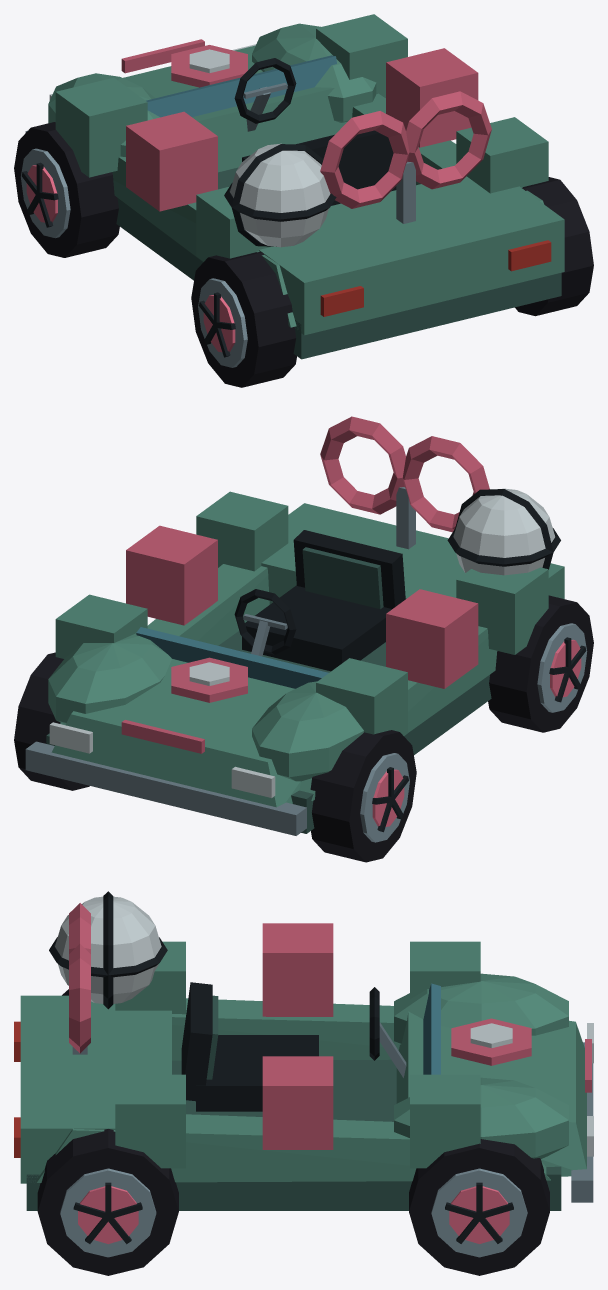
The model's file is kart.glb.
The picture shows the model from 3 angles, top to bottom: view 1: azimuth 30°, elevation 25°; view 2: azimuth 150°, elevation 25°; view 3: azimuth 270°, elevation 25°; orthographic projection. The views are drawn at different scales.
Visible parts, largest first — view 1: identity-toy-car-toy-rounded-body-and-wind-up-key, identity-toy-car-motif-blocks, wheel-rear-left, wheel-front-left, identity-toy-car-motif-ball, identity-toy-car-driver-cockpit, wheel-rear-right, identity-toy-car-motif-badge; view 2: identity-toy-car-toy-rounded-body-and-wind-up-key, identity-toy-car-motif-blocks, identity-toy-car-driver-cockpit, wheel-front-left, wheel-rear-left, identity-toy-car-motif-ball, wheel-front-right, identity-toy-car-motif-badge; view 3: identity-toy-car-toy-rounded-body-and-wind-up-key, identity-toy-car-motif-blocks, wheel-rear-right, wheel-front-right, identity-toy-car-driver-cockpit, identity-toy-car-motif-ball, identity-toy-car-motif-badge.
Part boxes in pixels (left/top/right/bottom): identity-toy-car-toy-rounded-body-and-wind-up-key: left=25, top=23, right=564, bottom=359; identity-toy-car-motif-blocks: left=55, top=14, right=548, bottom=261; wheel-rear-left: left=191, top=252, right=296, bottom=387; wheel-front-left: left=14, top=122, right=119, bottom=257; identity-toy-car-motif-ball: left=224, top=143, right=336, bottom=247; identity-toy-car-driver-cockpit: left=234, top=58, right=396, bottom=205; wheel-rear-right: left=515, top=177, right=593, bottom=316; identity-toy-car-motif-badge: left=171, top=45, right=247, bottom=87; identity-toy-car-toy-rounded-body-and-wind-up-key: left=25, top=416, right=564, bottom=835; identity-toy-car-motif-blocks: left=55, top=491, right=548, bottom=735; identity-toy-car-driver-cockpit: left=234, top=530, right=405, bottom=671; wheel-front-left: left=310, top=730, right=416, bottom=862; wheel-rear-left: left=488, top=595, right=593, bottom=732; identity-toy-car-motif-ball: left=447, top=488, right=560, bottom=575; wheel-front-right: left=14, top=652, right=89, bottom=790; identity-toy-car-motif-badge: left=171, top=657, right=247, bottom=702; identity-toy-car-toy-rounded-body-and-wind-up-key: left=14, top=903, right=593, bottom=1210; identity-toy-car-motif-blocks: left=115, top=923, right=480, bottom=1168; wheel-rear-right: left=37, top=1129, right=178, bottom=1275; wheel-front-right: left=409, top=1139, right=549, bottom=1275; identity-toy-car-driver-cockpit: left=181, top=982, right=406, bottom=1111; identity-toy-car-motif-ball: left=49, top=891, right=167, bottom=1009; identity-toy-car-motif-badge: left=451, top=1018, right=531, bottom=1065.
Bounding box in the file's own units: 2.13 × 1.42 × 2.88.
